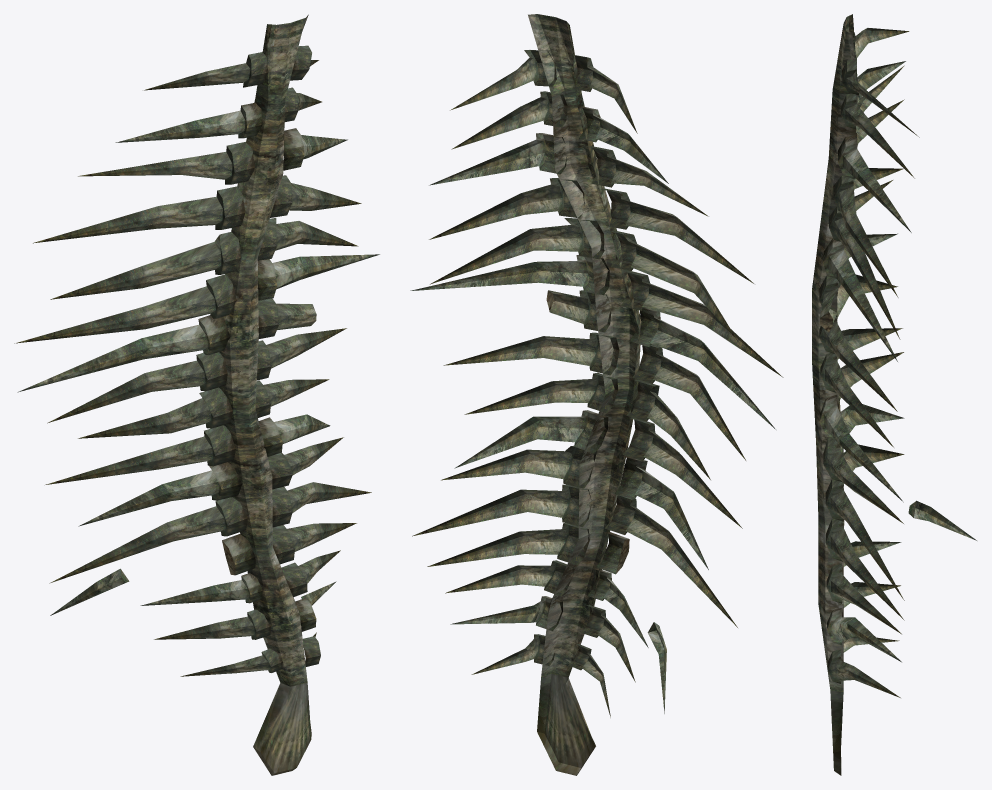
The model's file is zhanchang_fuben_191_qiao_01.obj.
The picture shows the model from 3 angles, left to right: view 1: azimuth 30°, elevation 25°; view 2: azimuth 150°, elevation 25°; view 3: azimuth 270°, elevation 25°; orthographic projection.
Visible parts, largest first — view 1: zhanchang_fuben_191_qiao_01; view 2: zhanchang_fuben_191_qiao_01; view 3: zhanchang_fuben_191_qiao_01.
Boxes of the visible parts, x1,y1,x2,y2 form: zhanchang_fuben_191_qiao_01: [14, 14, 379, 775]; zhanchang_fuben_191_qiao_01: [410, 14, 783, 775]; zhanchang_fuben_191_qiao_01: [812, 14, 976, 775].
Bounding box in the file's own units: 71.75 × 139 × 27.75.
Materials: 1 (1 with a texture image).
